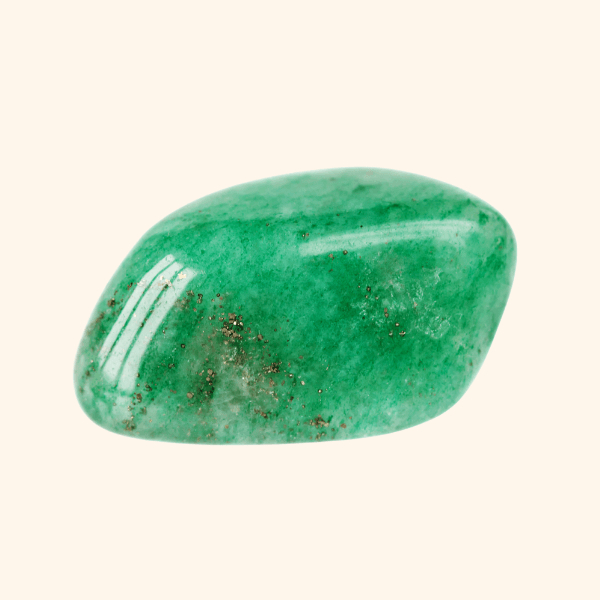Aventurine: (69, 162, 522, 448)
